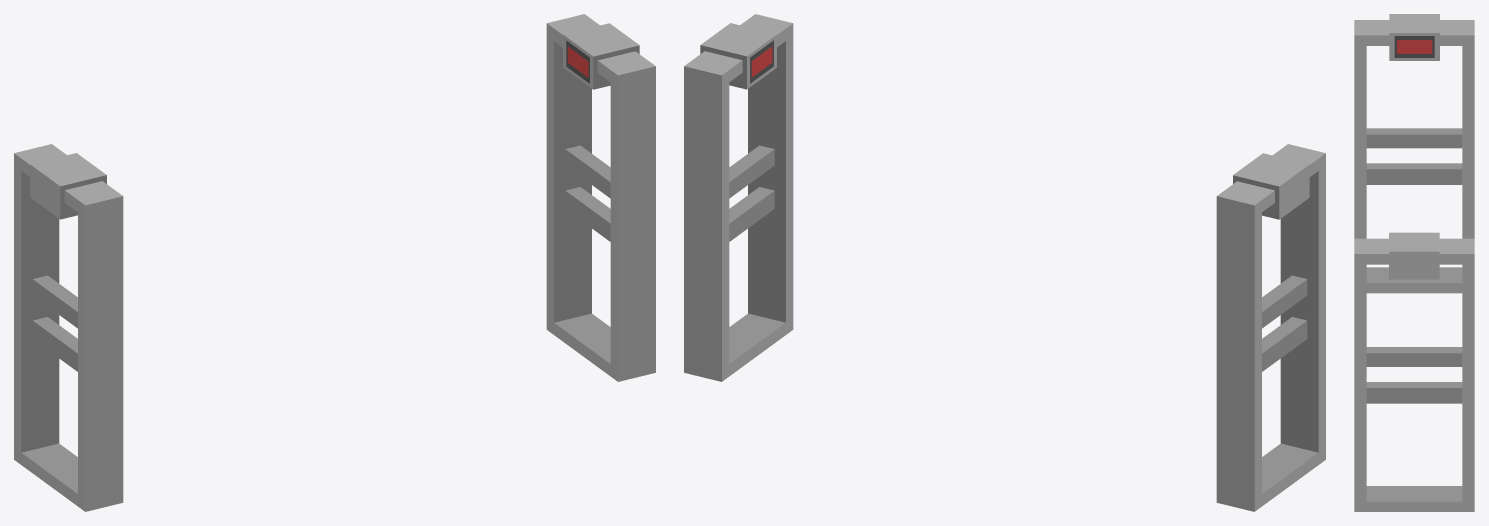
File: SelfScanner.glb
3 renders of one model, left to right at view 1: azimuth 30°, elevation 25°; view 2: azimuth 150°, elevation 25°; view 3: azimuth 270°, elevation 25°, orthographic. The views are drawn at different scales.
Parts seen in each view (by area): view 1: SI_Prop_SecurityScanner_01; view 2: SI_Prop_SecurityScanner_01; view 3: SI_Prop_SecurityScanner_01.
Part boxes in pixels (box(x1,y1,x2,y2)): SI_Prop_SecurityScanner_01: box(14, 14, 655, 511); SI_Prop_SecurityScanner_01: box(684, 14, 1325, 511); SI_Prop_SecurityScanner_01: box(1354, 14, 1474, 511).
Size of the model in its own units: 0.0469 by 0.0241 by 0.01.
1 material, 1 textured.
